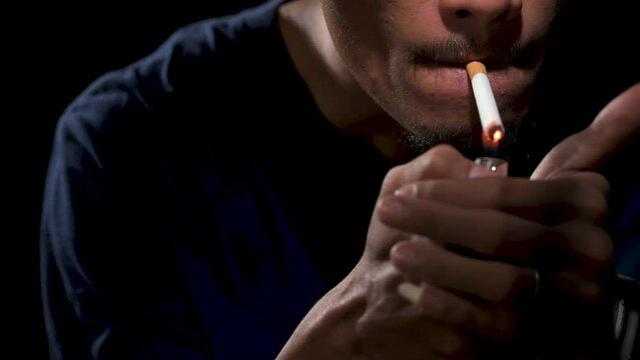Cigarette: (464, 59, 506, 151)
